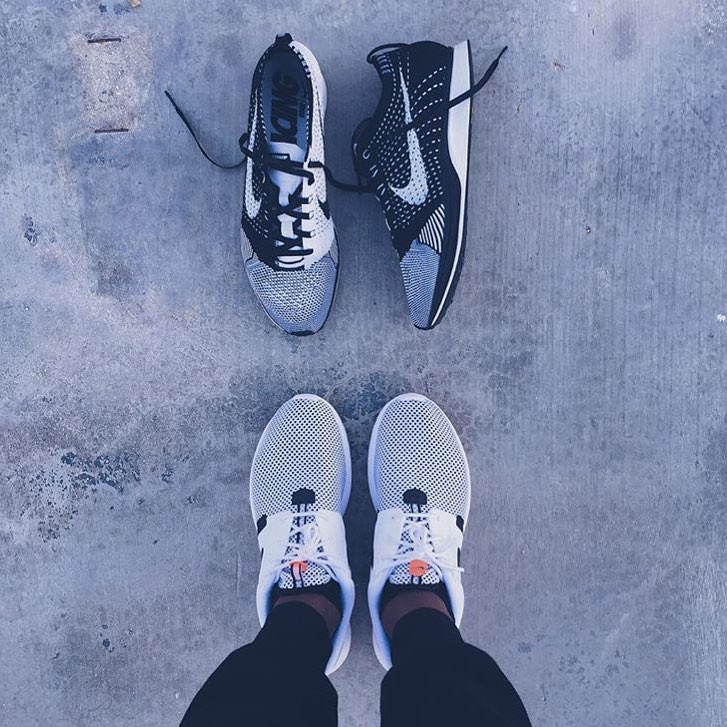sneaker: (358, 360, 495, 689), (229, 362, 357, 693)
